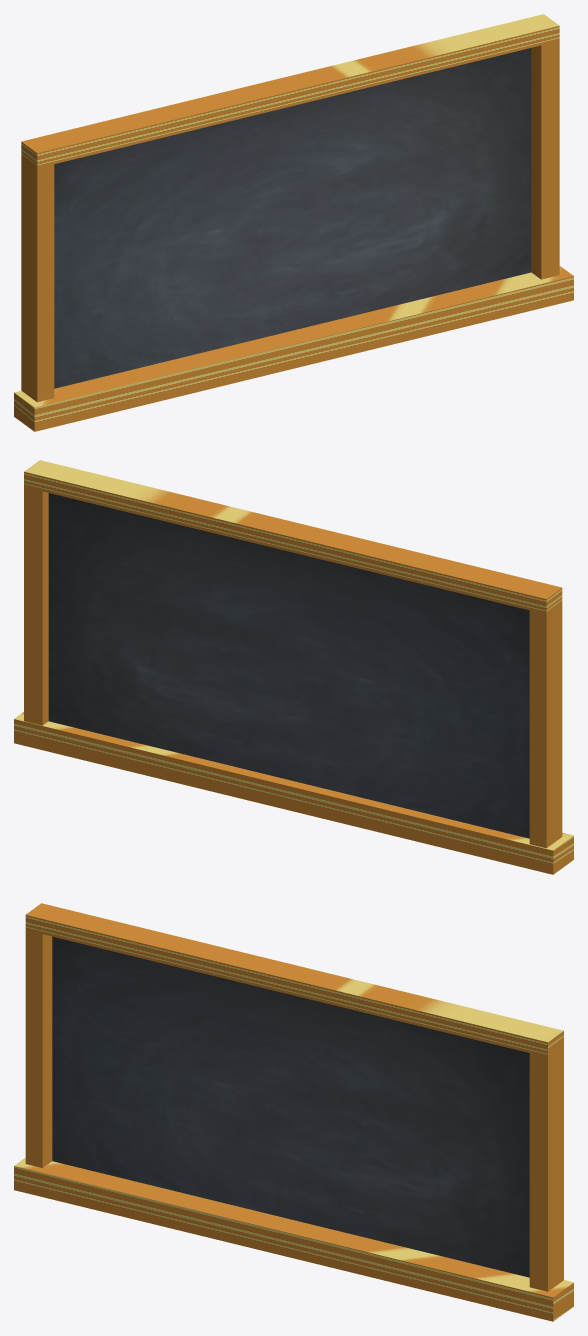
The model's file is bboard-wide.obj.
3 views of the same model, one above another, from view 1: azimuth 30°, elevation 25°; view 2: azimuth 150°, elevation 25°; view 3: azimuth 330°, elevation 25° (orthographic).
Visible parts, largest first — view 1: polySurface1; view 2: polySurface1; view 3: polySurface1.
Part boxes in pixels (x1,y1,x2,y2): polySurface1: [14, 14, 573, 431]; polySurface1: [14, 460, 573, 874]; polySurface1: [14, 903, 573, 1321].
Size of the model in its own units: 123 by 59.48 by 8.18.
2 materials, 2 textured.
